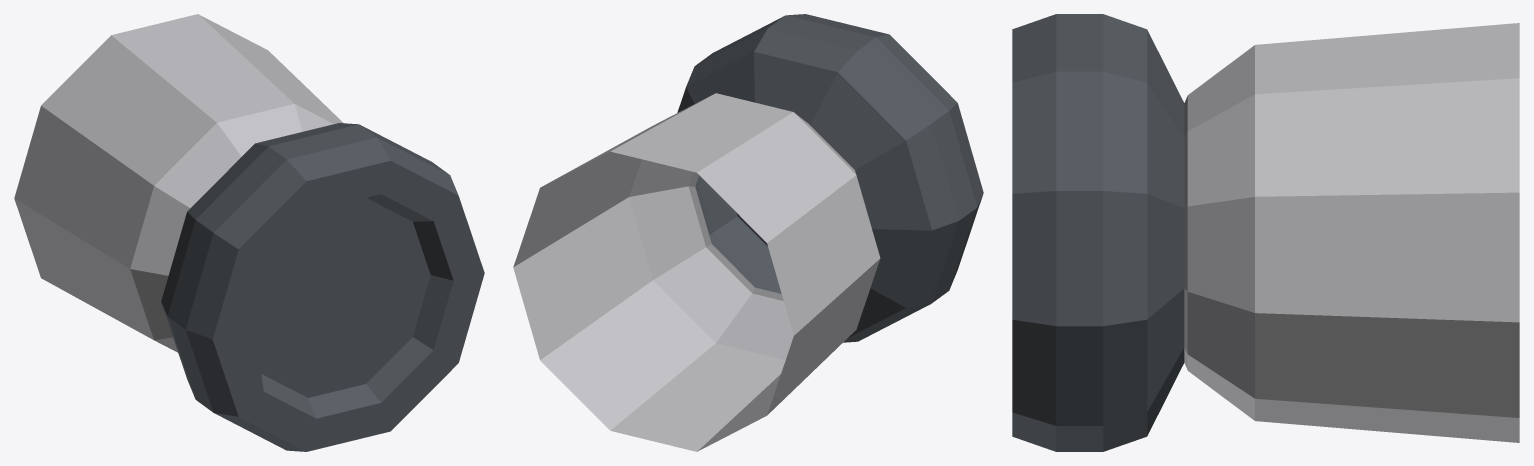
File: Personal_Vehicle_01_Head_Light_Small.fbx
The picture shows the model from 3 angles, left to right: view 1: azimuth 30°, elevation 25°; view 2: azimuth 150°, elevation 25°; view 3: azimuth 270°, elevation 25°; orthographic projection. The views are drawn at different scales.
Parts seen in each view (by area): view 1: Personal_Vehicle_01_Head_Light_Small; view 2: Personal_Vehicle_01_Head_Light_Small; view 3: Personal_Vehicle_01_Head_Light_Small.
Boxes of the visible parts, left/top/right/bottom form: Personal_Vehicle_01_Head_Light_Small: left=14, top=14, right=484, bottom=451; Personal_Vehicle_01_Head_Light_Small: left=513, top=14, right=983, bottom=451; Personal_Vehicle_01_Head_Light_Small: left=1012, top=14, right=1519, bottom=451.
Bounding box in the file's own units: 14.07 × 13.38 × 16.18.
Materials: 2 (2 with a texture image).
